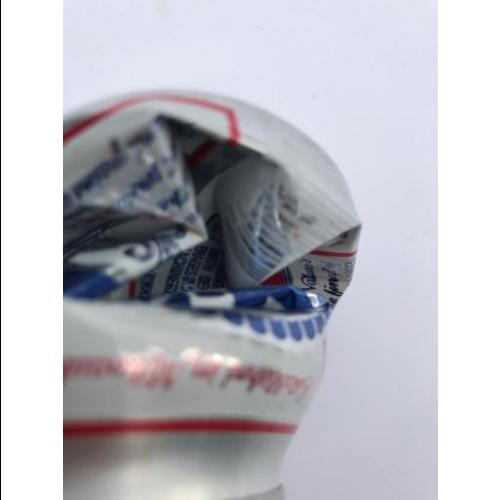metal: (65, 87, 364, 500)
